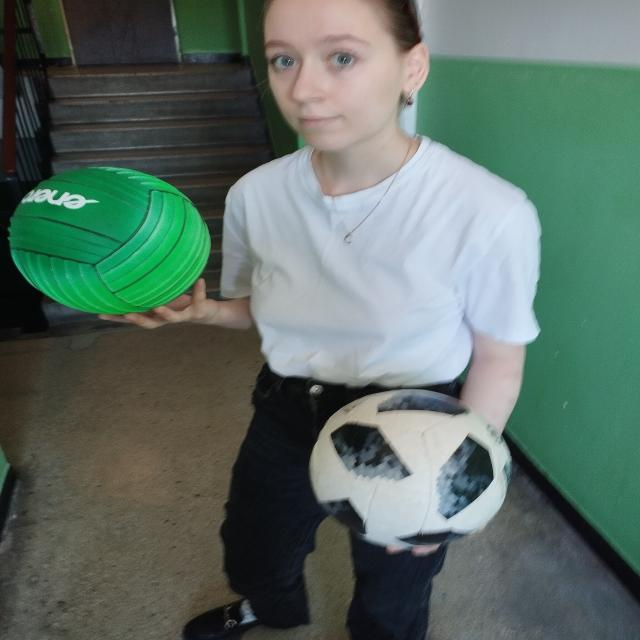nozna: (309, 388, 512, 546)
zielona: (7, 166, 211, 315)
